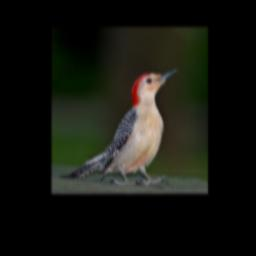Woodpecker: (58, 67, 181, 186)
